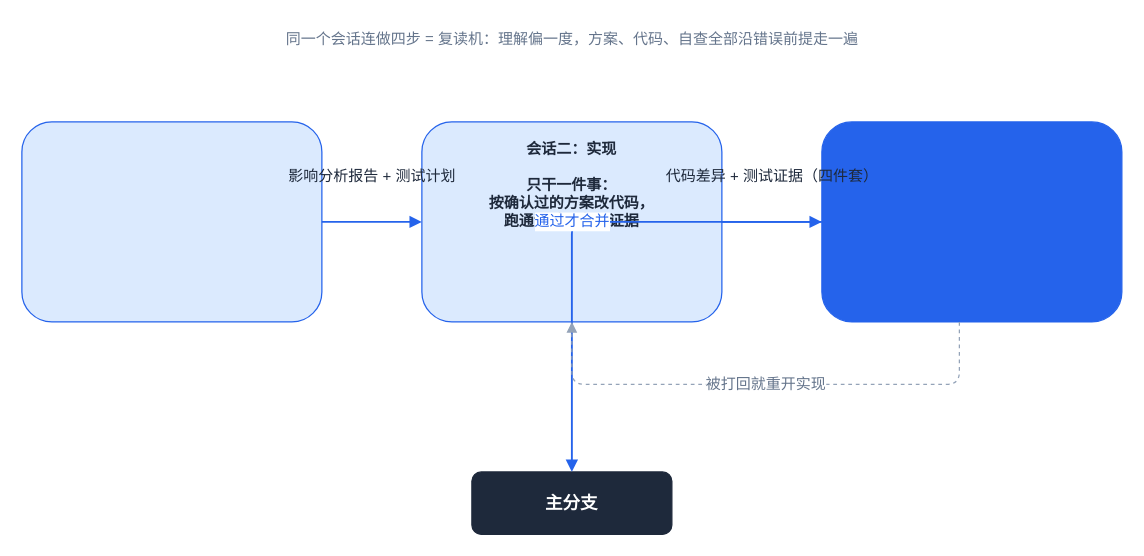
Some shapes in this 1144 by 556 pixel diagram are drawn without their labels. The centre of each missing label's shape, as x and y in pixels:
"会话一：分析 只做分析，不动代码： 需求拆解、影响范围清单、 回归测试计划" belongs at pixel 171 221.
"会话三：审查 全新上下文的新人： 只看三样材料，逐项给结论， 找不到证据就说「无法确认」" belongs at pixel 971 221.
